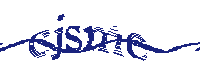c: (126, 32, 150, 64), (28, 28, 52, 59)
j: (51, 12, 65, 62)
m: (83, 24, 125, 56)
s: (64, 23, 83, 53)
